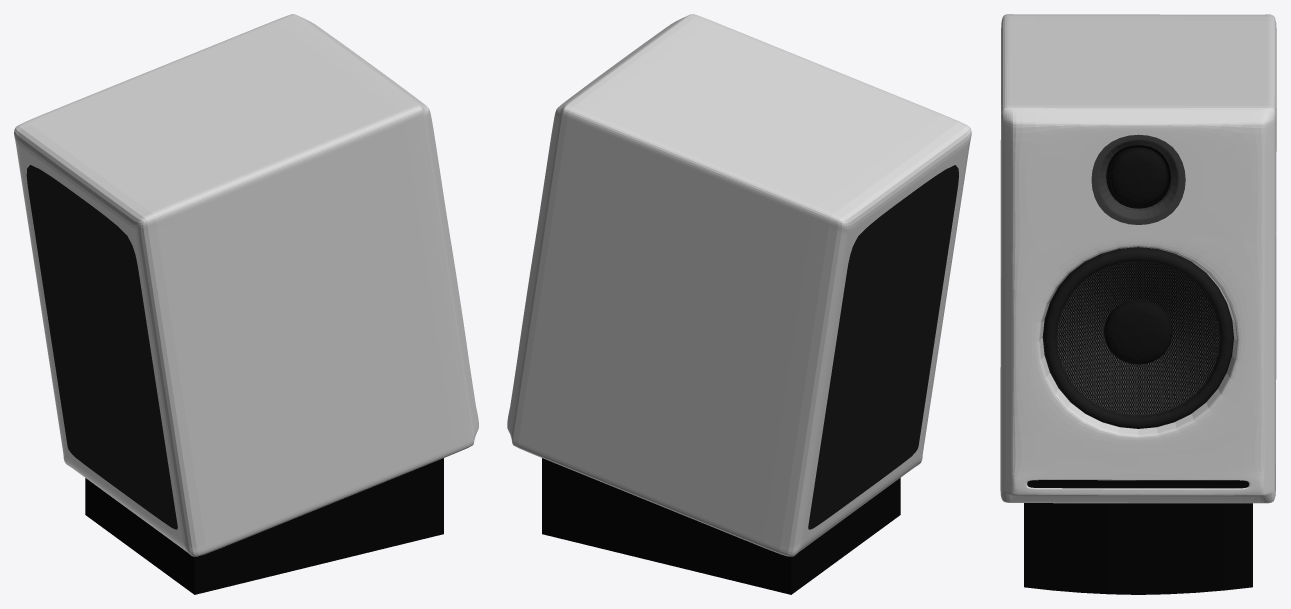
The model's file is speakers 4 white.glb.
3 views of the same model, side by side, from view 1: azimuth 30°, elevation 25°; view 2: azimuth 150°, elevation 25°; view 3: azimuth 270°, elevation 25° (orthographic). The views are drawn at different scales.
Parts seen in each view (by area): view 1: Cube.002; view 2: Cube.002; view 3: Cube.002.
Part boxes in pixels (box(x1,y1,x2,y2)): Cube.002: box(14, 14, 478, 594); Cube.002: box(507, 14, 971, 594); Cube.002: box(1000, 14, 1276, 594).
Bounding box in the file's own units: 6.04 × 7.41 × 4.01.
8 materials, 1 textured.
